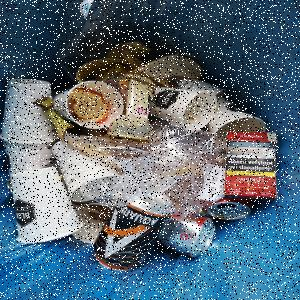Can: (94, 189, 179, 273), (105, 71, 159, 143), (162, 217, 218, 260), (207, 199, 253, 221)
Cup: (11, 167, 86, 245), (52, 140, 124, 204), (1, 80, 59, 146), (54, 82, 126, 131), (157, 87, 219, 133)
Trash: (220, 131, 282, 203)
